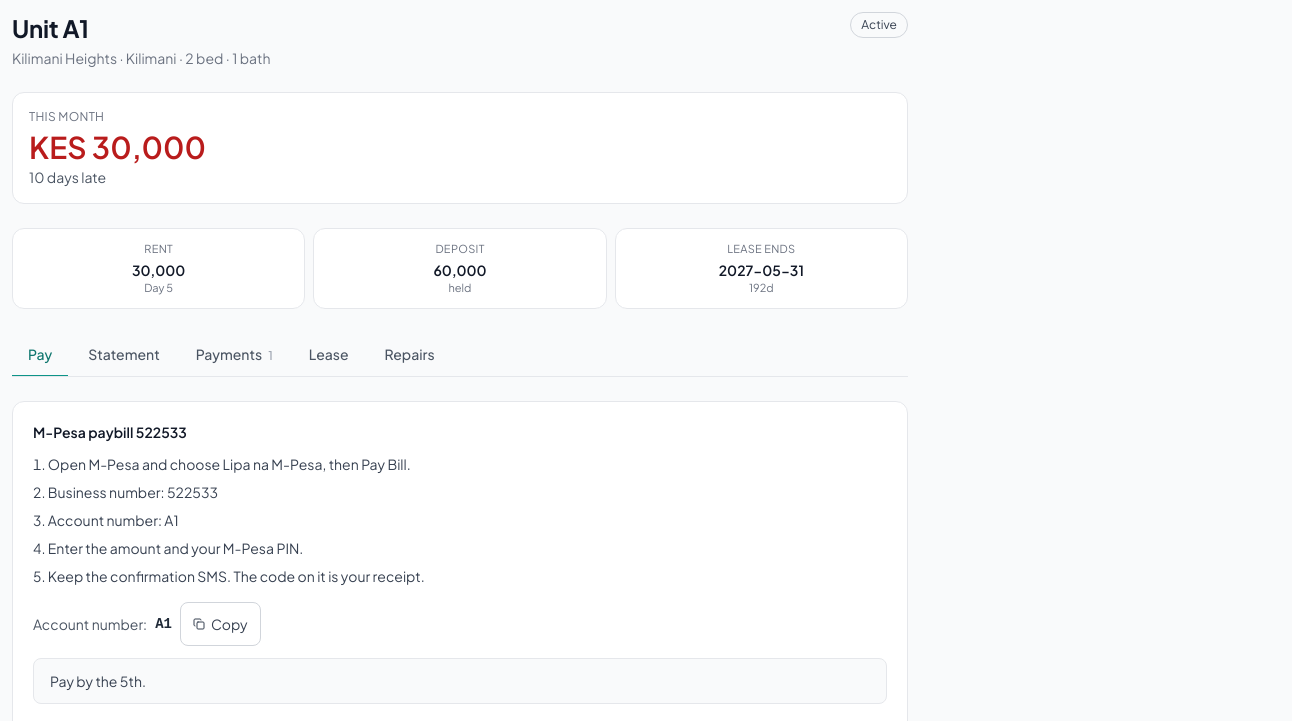
Test: the tenant cannot write anything › offers no way to record a payment
The image size is (1292, 721).
Click the tab "Payments1" at (234, 355), box [180,333,289,377]
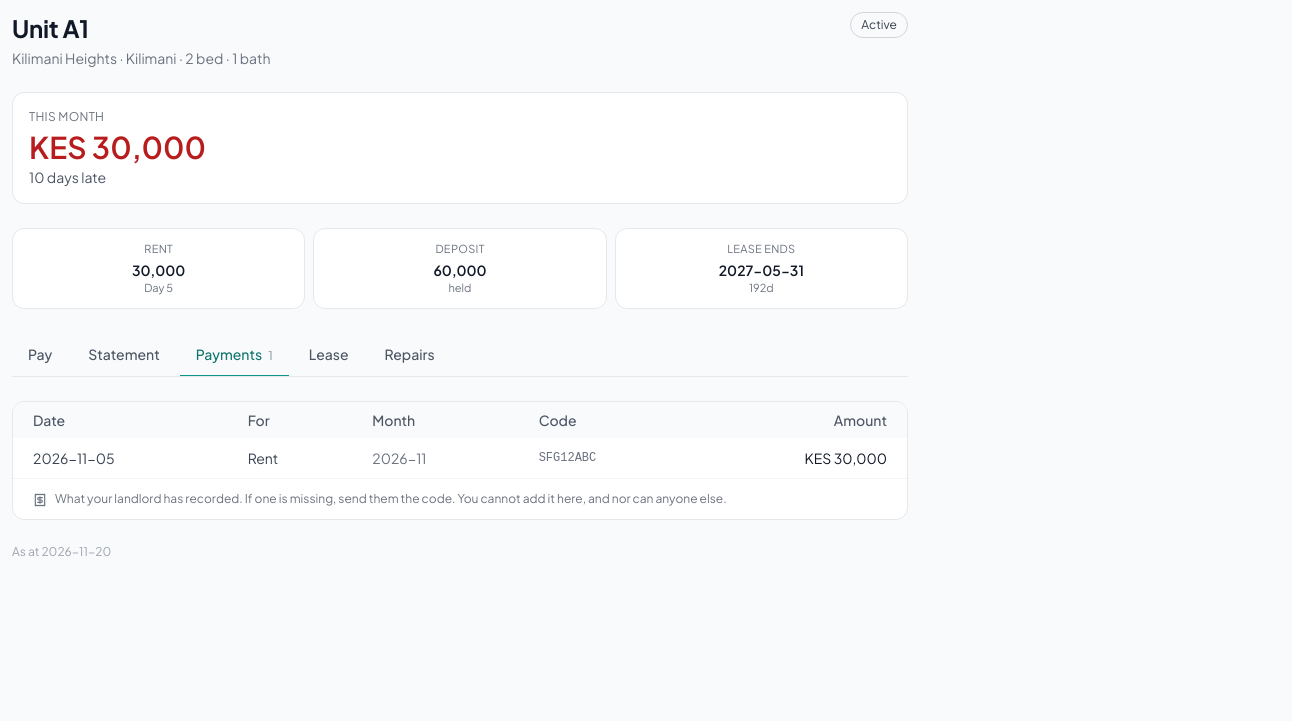
Result: the text "you cannot add it here" is shown at [55,491,727,506]
